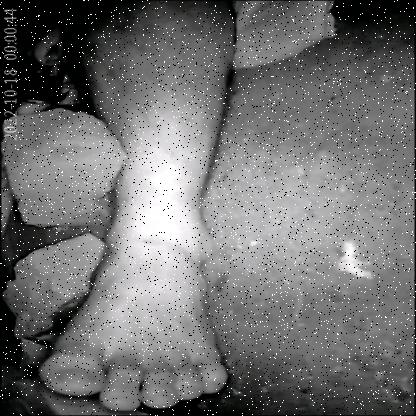leg: (30, 0, 254, 416)
